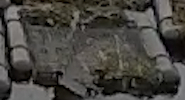bag: (6, 6, 180, 91)
